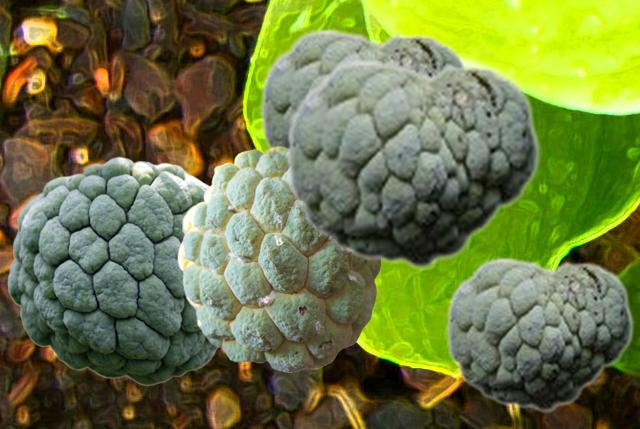atis: (285, 57, 540, 269), (7, 156, 218, 385), (177, 146, 380, 371), (445, 256, 633, 412), (259, 27, 467, 148)
